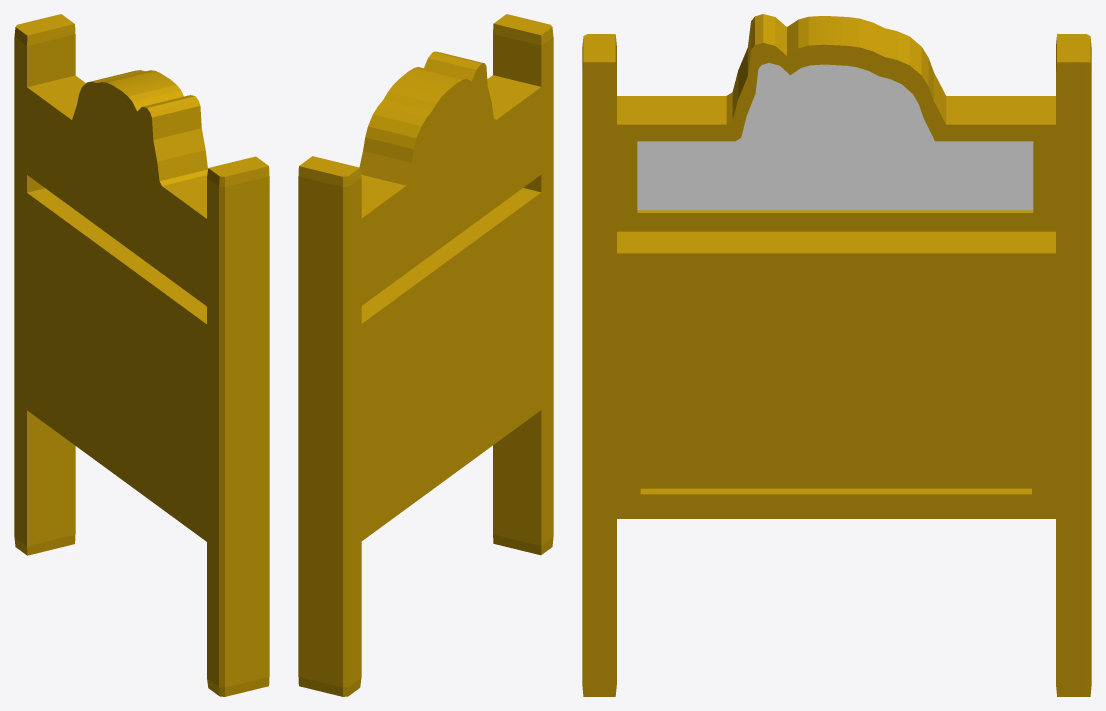
File: Panal.fbx
The picture shows the model from 3 angles, left to right: view 1: azimuth 30°, elevation 25°; view 2: azimuth 150°, elevation 25°; view 3: azimuth 270°, elevation 25°; orthographic projection. The views are drawn at different scales.
Visible parts, largest first — view 1: Cube.001; view 2: Cube.001; view 3: Cube.001.
Boxes of the visible parts, x1,y1,x2,y2 form: Cube.001: (14,14,269,696); Cube.001: (298,14,553,696); Cube.001: (582,14,1091,696).
Bounding box in the file's own units: 80.17 × 595 × 843.
